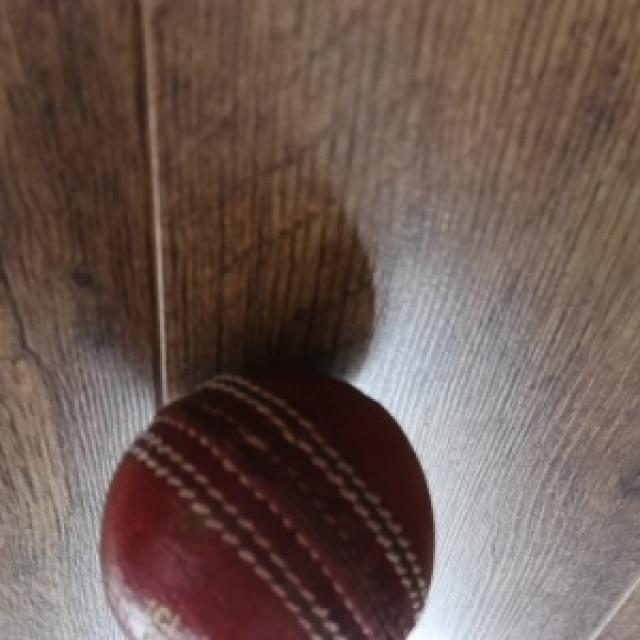ball: (98, 369, 435, 640)
